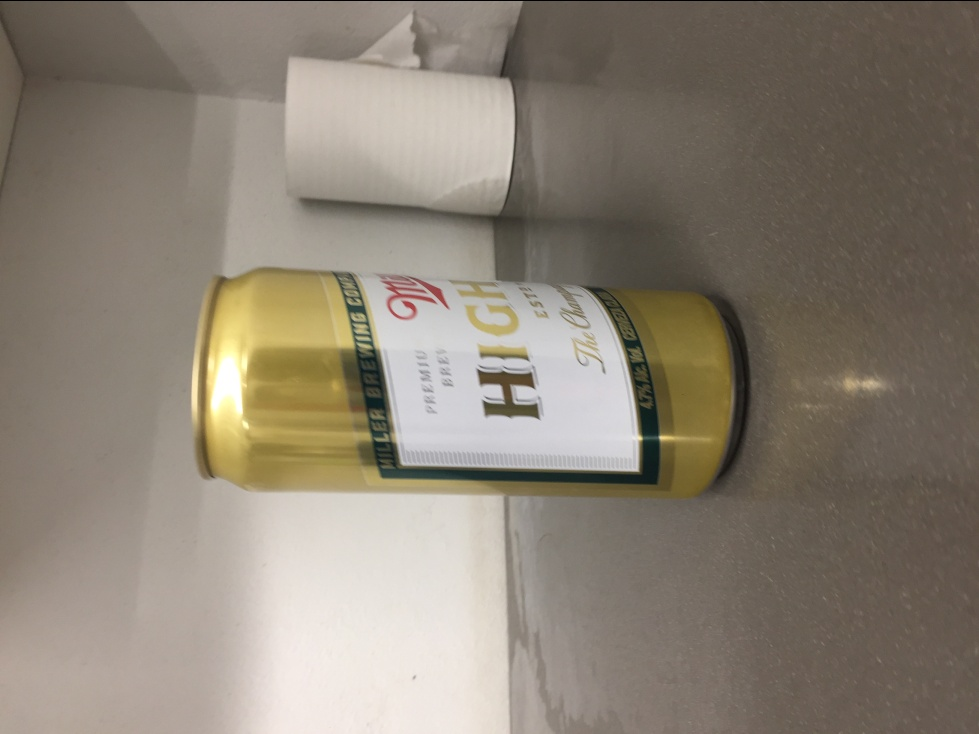miller: (189, 262, 747, 500)
